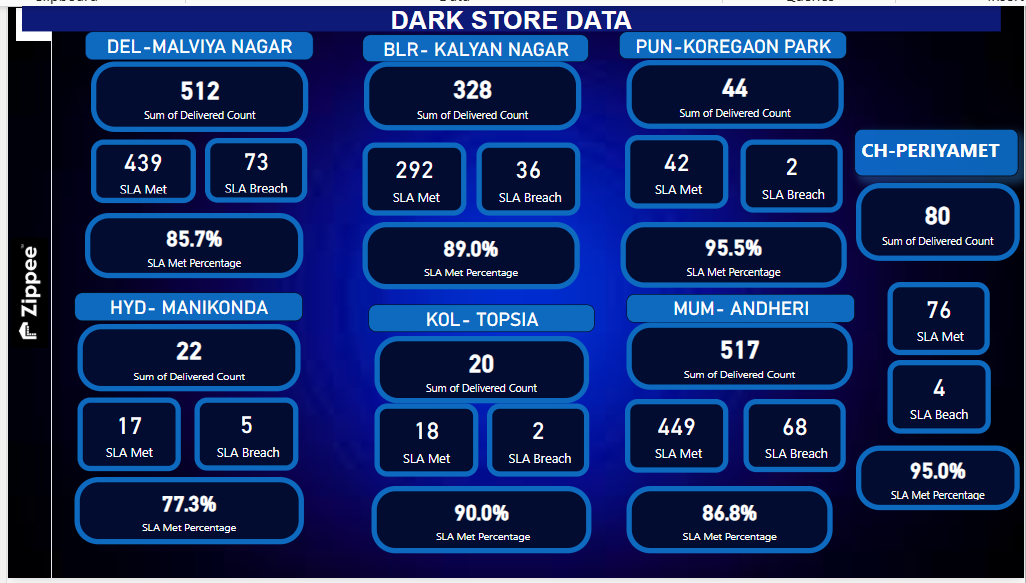

Layout of this report page (visuals, bound fields, positions):
{"tool":"powerbi","page":{"name":"ZIPPEE SLA","canvas":[1280,720],"ordinal":0},"visuals":[{"type":"image","box":[0,0,56.7,721.9],"z":0},{"type":"textbox","title":"DARK STORE DATA","box":[19.1,0,1231.1,31.8],"z":1000},{"type":"textbox","title":"DEL-MALVIYA NAGAR","box":[98.3,32.1,287.2,35.9],"z":2000},{"type":"card","fields":{"Values":["Sum(SLA MET.Delivered Count)"]},"box":[105.7,69.8,273.6,88.7],"z":3000},{"type":"textbox","title":"BLR- KALYAN NAGAR","box":[448.1,36.5,284.6,34.6],"z":4000},{"type":"textbox","title":"HYD- MANIKONDA","box":[85,360.9,287.2,35.9],"z":5000},{"type":"textbox","title":"KOL- TOPSIA","box":[453.8,375,284.6,34.6],"z":6000},{"type":"textbox","title":"MUM- ANDHERI","box":[778.6,362.8,287.2,35.9],"z":7000},{"type":"textbox","title":"PUN-KOREGAON PARK","box":[769.2,32.7,286.5,34.6],"z":8000},{"type":"card","fields":{"Values":["Sum(SLA MET.Delivered Count)"]},"box":[449.1,69.8,273.6,86.8],"z":9000},{"type":"card","fields":{"Values":["Sum(SLA MET.Delivered Count)"]},"box":[778.8,67.3,273.1,86.5],"z":10000},{"type":"card","fields":{"Values":["Sum(SLA MET.Delivered Count)"]},"box":[778.8,398.1,284.6,84.6],"z":11000},{"type":"card","fields":{"Values":["Sum(SLA MET.Delivered Count)"]},"box":[462.3,415.1,269.8,84.9],"z":12000},{"type":"card","fields":{"Values":["Sum(SLA MET.Delivered Count)"]},"box":[88.5,400,280.8,84.6],"z":13000},{"type":"card","fields":{"Values":["Sum(SLA MET.SLA Met)"]},"box":[105,168,131.8,80.2],"z":14000},{"type":"card","fields":{"Values":["Sum(SLA MET.SLA Met)"]},"box":[448.1,171.2,130.8,92.3],"z":15000},{"type":"card","fields":{"Values":["Sum(SLA MET.SLA Met)"]},"box":[88.7,492.5,130.2,92.5],"z":16000},{"type":"card","fields":{"Values":["Sum(SLA MET.SLA Met)"]},"box":[461.5,500,130.8,92.3],"z":17000},{"type":"card","fields":{"Values":["Sum(SLA MET.SLA Met)"]},"box":[777.4,494.4,130.2,92.5],"z":18000},{"type":"card","fields":{"Values":["Sum(SLA MET.SLA Met)"]},"box":[777.4,162.3,130.2,92.5],"z":19000},{"type":"card","fields":{"Values":["Sum(SLA MET.SLA Breach)"]},"box":[249.7,165.4,128.8,81.1],"z":20000},{"type":"card","fields":{"Values":["Sum(SLA MET.SLA Breach)"]},"box":[590.4,171.2,130.8,92.3],"z":21000},{"type":"card","fields":{"Values":["Sum(SLA MET.SLA Breach)"]},"box":[236.5,492.3,130.8,92.3],"z":22000},{"type":"card","fields":{"Values":["Sum(SLA MET.SLA Breach)"]},"box":[603.8,500,128.8,92.3],"z":23000},{"type":"card","fields":{"Values":["Sum(SLA MET.SLA Breach)"]},"box":[926.9,494.2,128.8,92.3],"z":24000},{"type":"card","fields":{"Values":["Sum(SLA MET.SLA Breach)"]},"box":[923.1,167.3,128.8,92.3],"z":25000},{"type":"card","fields":{"Values":["Sum(SLA MET.SLA MET Percentage)"]},"box":[97.4,259.7,275,82.1],"z":26000},{"type":"card","fields":{"Values":["Sum(SLA MET.SLA MET Percentage)"]},"box":[448.1,271.2,273.1,84.6],"z":27000},{"type":"card","fields":{"Values":["Sum(SLA MET.SLA MET Percentage)"]},"box":[84.6,592.3,288.5,84.6],"z":28000},{"type":"card","fields":{"Values":["Sum(SLA MET.SLA MET Percentage)"]},"box":[457.7,603.8,276.9,84.6],"z":29000},{"type":"card","fields":{"Values":["Sum(SLA MET.SLA MET Percentage)"]},"box":[778.8,603.8,259.6,84.6],"z":30000},{"type":"card","fields":{"Values":["Sum(SLA MET.SLA MET Percentage)"]},"box":[771.2,271.2,284.6,82.7],"z":31000},{"type":"textbox","title":"MUM- ANDHERI","box":[1065.4,153.8,205.8,59.6],"z":32000},{"type":"card","fields":{"Values":["Sum(SLA MET.Delivered Count)"]},"box":[1068,222.7,205.7,98.1],"z":33000},{"type":"card","fields":{"Values":["Sum(SLA MET.SLA Met)"]},"box":[1107.7,348.1,128.8,92.3],"z":34000},{"type":"card","fields":{"Values":["Sum(SLA MET.SLA Breach)"]},"box":[1107.7,445.3,130.2,92.5],"z":35000},{"type":"card","fields":{"Values":["Sum(SLA MET.SLA MET Percentage)"]},"box":[1068,552.9,205.7,81.1],"z":36000}]}

Visuals, with their boxes in screenshot pixels (x1, y1, x2, y2), scaled from the page's 1280x720 canvas onto the 1026x583 screenshot:
image: Rect(0, 0, 45, 582)
"DARK STORE DATA" textbox: Rect(15, 0, 1002, 26)
"DEL-MALVIYA NAGAR" textbox: Rect(79, 26, 309, 55)
card - Sum(SLA MET.Delivered Count): Rect(85, 57, 304, 128)
"BLR- KALYAN NAGAR" textbox: Rect(359, 30, 587, 58)
"HYD- MANIKONDA" textbox: Rect(68, 292, 298, 321)
"KOL- TOPSIA" textbox: Rect(364, 304, 592, 332)
"MUM- ANDHERI" textbox: Rect(624, 294, 854, 323)
"PUN-KOREGAON PARK" textbox: Rect(617, 26, 846, 54)
card - Sum(SLA MET.Delivered Count): Rect(360, 57, 579, 127)
card - Sum(SLA MET.Delivered Count): Rect(624, 54, 843, 125)
card - Sum(SLA MET.Delivered Count): Rect(624, 322, 852, 391)
card - Sum(SLA MET.Delivered Count): Rect(371, 336, 587, 405)
card - Sum(SLA MET.Delivered Count): Rect(71, 324, 296, 392)
card - Sum(SLA MET.SLA Met): Rect(84, 136, 190, 201)
card - Sum(SLA MET.SLA Met): Rect(359, 139, 464, 213)
card - Sum(SLA MET.SLA Met): Rect(71, 399, 175, 474)
card - Sum(SLA MET.SLA Met): Rect(370, 405, 475, 480)
card - Sum(SLA MET.SLA Met): Rect(623, 400, 727, 475)
card - Sum(SLA MET.SLA Met): Rect(623, 131, 727, 206)
card - Sum(SLA MET.SLA Breach): Rect(200, 134, 303, 200)
card - Sum(SLA MET.SLA Breach): Rect(473, 139, 578, 213)
card - Sum(SLA MET.SLA Breach): Rect(190, 399, 294, 473)
card - Sum(SLA MET.SLA Breach): Rect(484, 405, 587, 480)
card - Sum(SLA MET.SLA Breach): Rect(743, 400, 846, 475)
card - Sum(SLA MET.SLA Breach): Rect(740, 135, 843, 210)
card - Sum(SLA MET.SLA MET Percentage): Rect(78, 210, 299, 277)
card - Sum(SLA MET.SLA MET Percentage): Rect(359, 220, 578, 288)
card - Sum(SLA MET.SLA MET Percentage): Rect(68, 480, 299, 548)
card - Sum(SLA MET.SLA MET Percentage): Rect(367, 489, 589, 557)
card - Sum(SLA MET.SLA MET Percentage): Rect(624, 489, 832, 557)
card - Sum(SLA MET.SLA MET Percentage): Rect(618, 220, 846, 287)
"MUM- ANDHERI" textbox: Rect(854, 125, 1019, 173)
card - Sum(SLA MET.Delivered Count): Rect(856, 180, 1021, 260)
card - Sum(SLA MET.SLA Met): Rect(888, 282, 991, 357)
card - Sum(SLA MET.SLA Breach): Rect(888, 361, 992, 435)
card - Sum(SLA MET.SLA MET Percentage): Rect(856, 448, 1021, 513)
